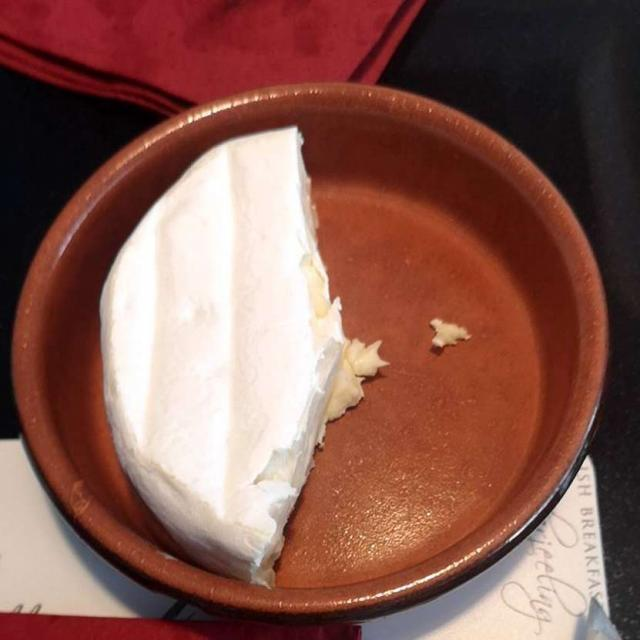tomme: (82, 123, 374, 580)
